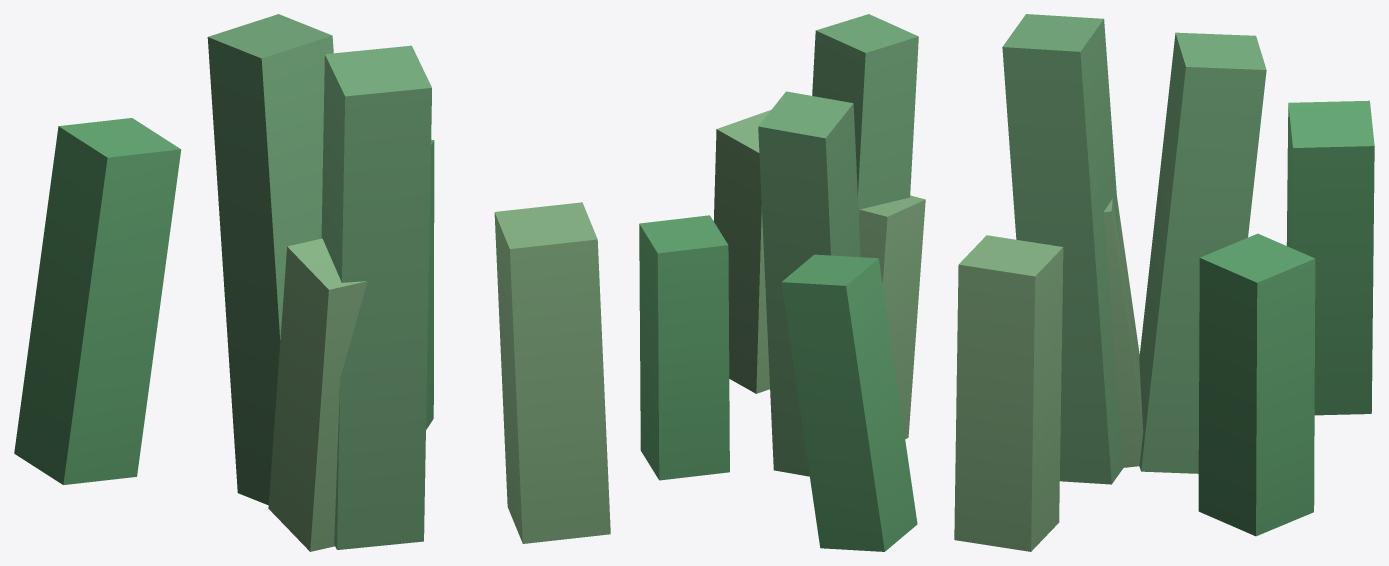
The model's file is grass-tuft.glb.
3 views of the same model, side by side, from view 1: azimuth 30°, elevation 25°; view 2: azimuth 150°, elevation 25°; view 3: azimuth 270°, elevation 25° (orthographic). The views are drawn at different scales.
Visible parts, largest first — view 1: grass-tuft_body; view 2: grass-tuft_body; view 3: grass-tuft_body.
Boxes of the visible parts, left/top/right/bottom form: grass-tuft_body: left=14, top=14, right=610, bottom=551; grass-tuft_body: left=639, top=14, right=925, bottom=551; grass-tuft_body: left=954, top=14, right=1374, bottom=551.
Size of the model in its own units: 0.3086 by 0.3528 by 0.3085.
